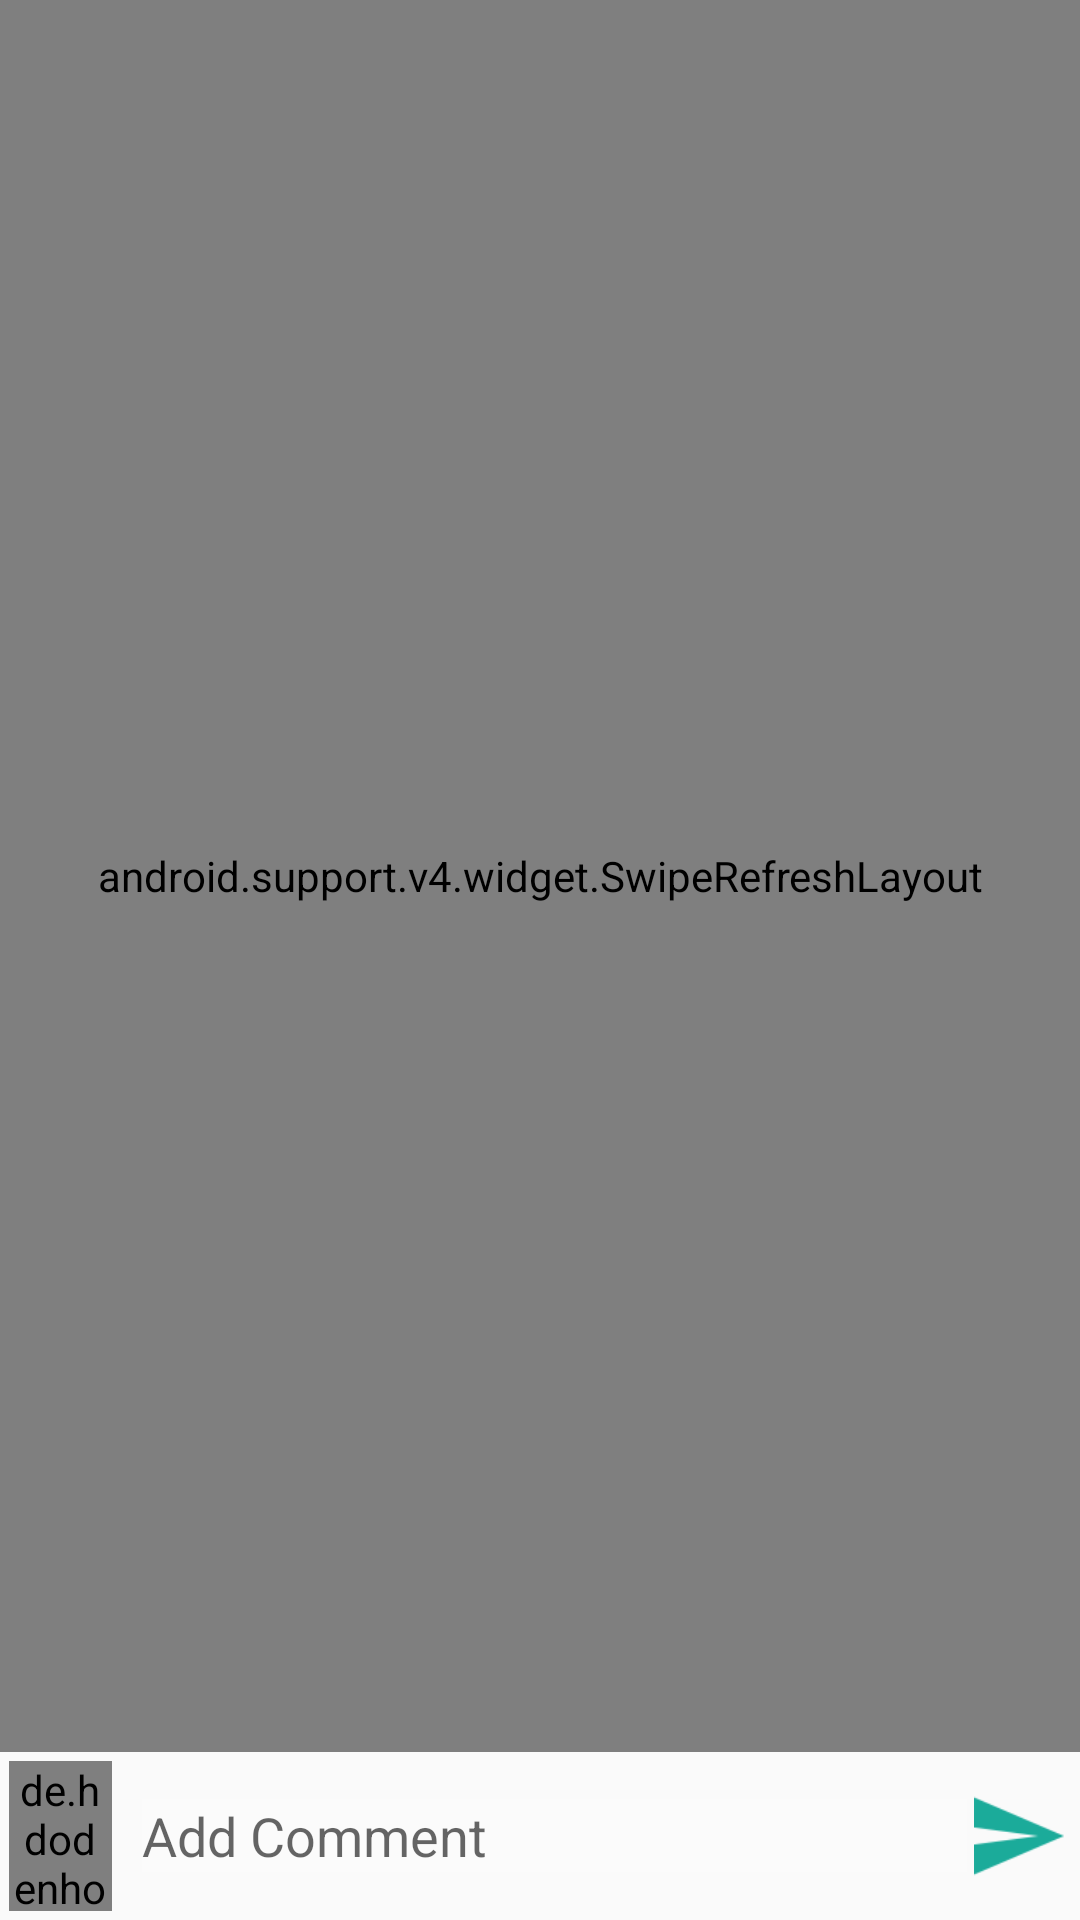

Icons on this 1080x1920 Android screen, each with the point to tap as (x,y):
send comment: (1019,1836)
